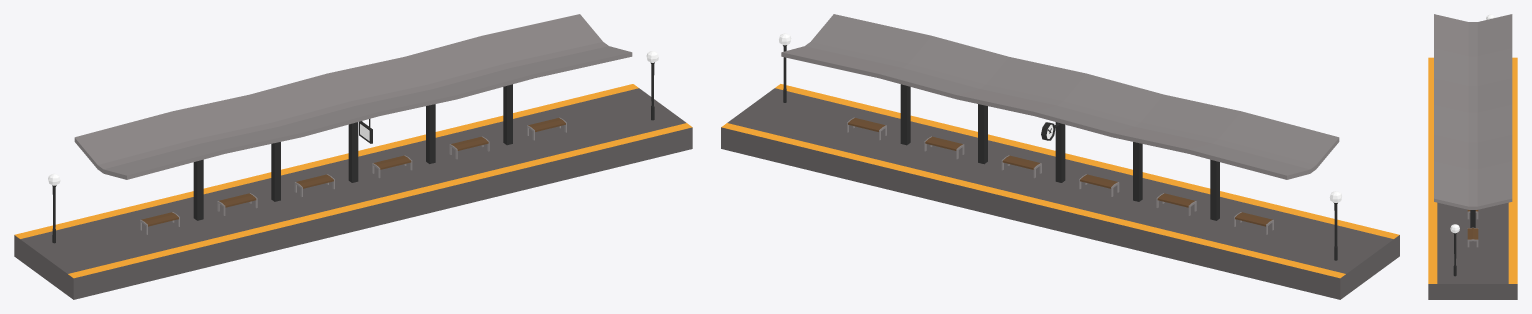
File: train-station-platform.glb
3 views of the same model, side by side, from view 1: azimuth 30°, elevation 25°; view 2: azimuth 150°, elevation 25°; view 3: azimuth 270°, elevation 25° (orthographic). The views are drawn at different scales.
Parts seen in each view (by area): view 1: train-station-platform; view 2: train-station-platform; view 3: train-station-platform.
Boxes of the visible parts, x1,y1,x2,y2 form: train-station-platform: (14, 14, 692, 299); train-station-platform: (721, 14, 1399, 299); train-station-platform: (1428, 14, 1517, 299).
Bounding box in the file's own units: 30.04 × 5.1 × 5.
1 material, 1 textured.
